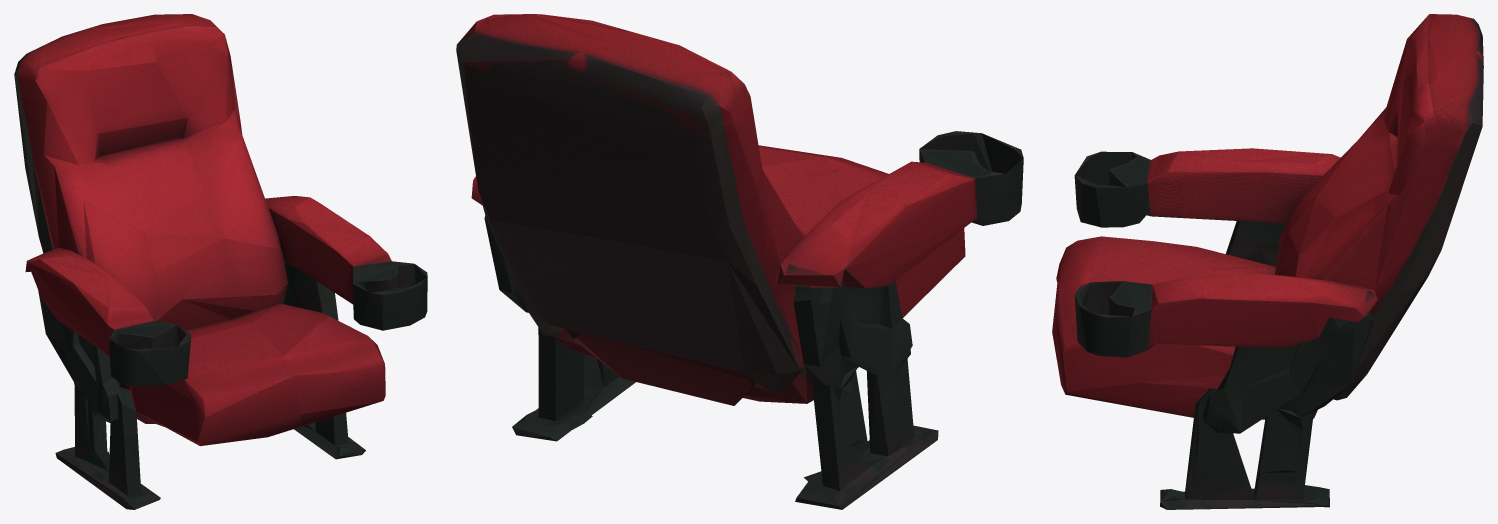
The model's file is seat_ai_far.glb.
3 renders of one model, left to right at view 1: azimuth 30°, elevation 25°; view 2: azimuth 150°, elevation 25°; view 3: azimuth 270°, elevation 25°, orthographic. The views are drawn at different scales.
Size of the model in its own units: 1.69 by 1.89 by 1.86.
Materials: 1 (1 with a texture image).
